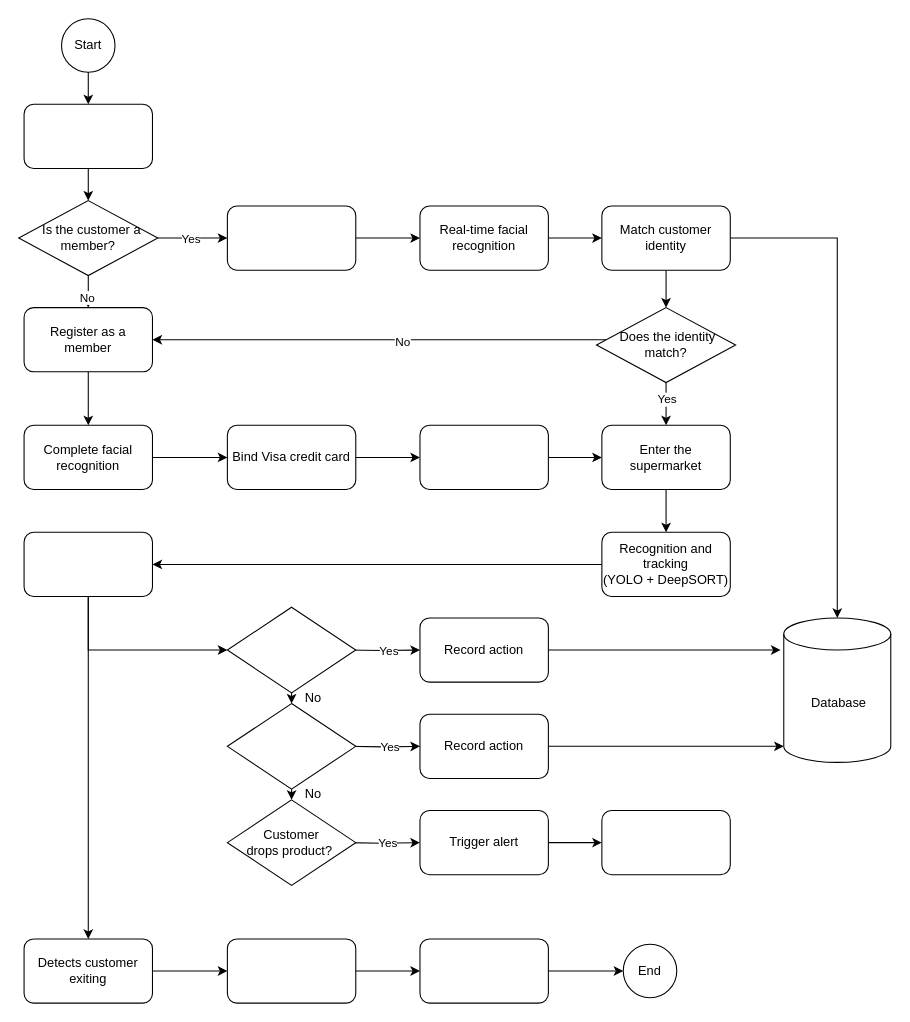
Some shapes in this 910 by 1022 pixel diagram are drawn without their labels. Each missing label, with the centre of its shape:
Action recognition ( Optical Flow + ViT): the point at 87,564
Activate facial recognition system: the point at 291,237
Checkout complete: the point at 483,970
Customer enters the supermarket: the point at 87,136
Customer picks up product?: the point at 291,649
Customer puts down product?: the point at 291,745
Deduct payment: the point at 291,970
Registration complete: the point at 483,457
Staff handles the dropped product: the point at 665,842
